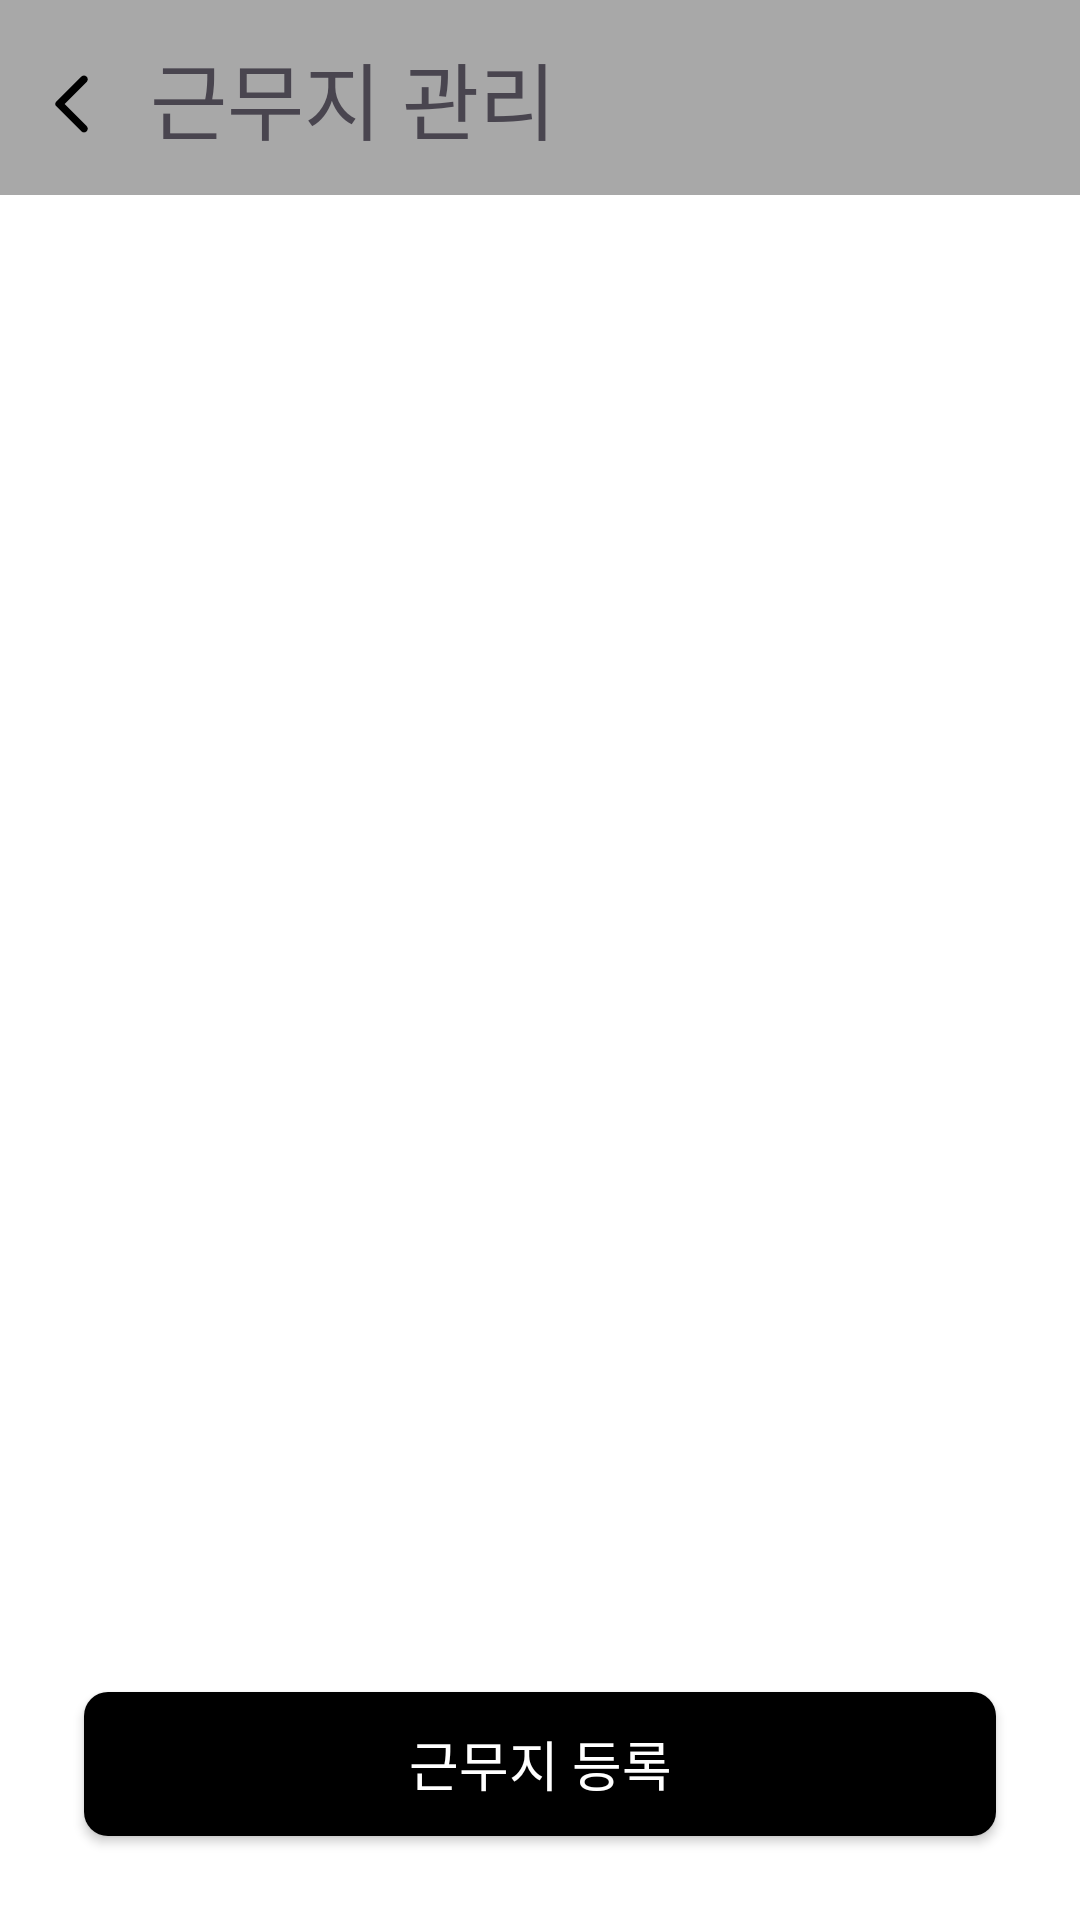

Named icons in this screenshot (1080w x 1920h) and their centers, [x,y]:
back: [71,104]
